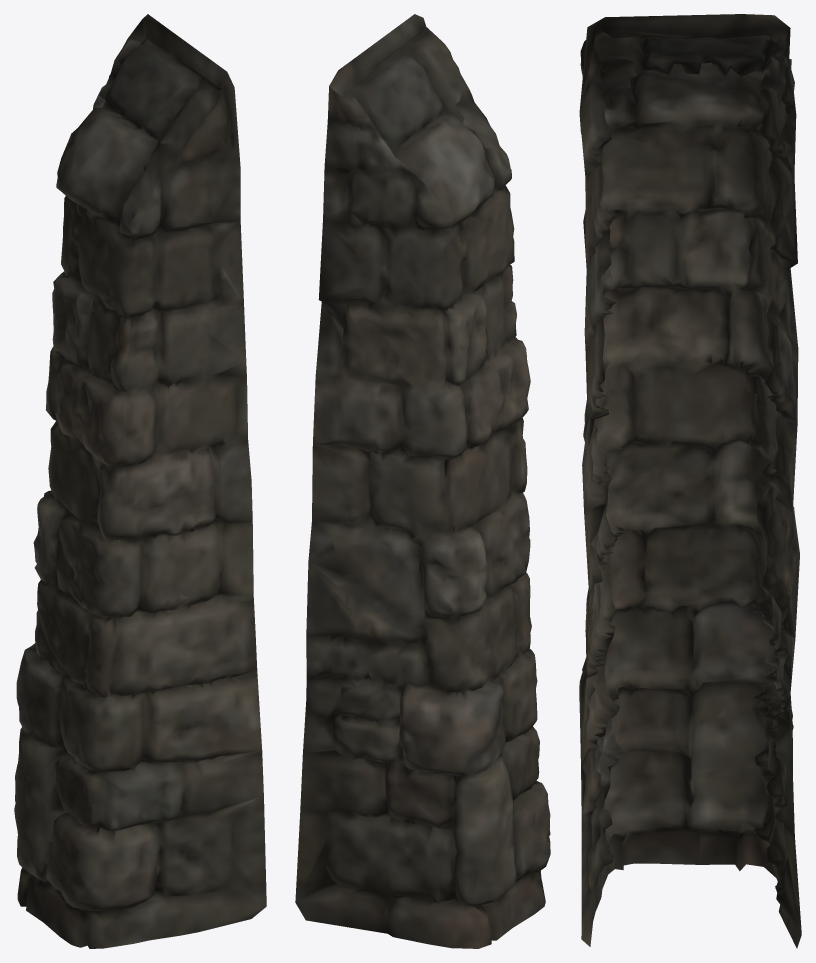
The model's file is C_Wall_Bracer.fbx.
3 renders of one model, left to right at view 1: azimuth 30°, elevation 25°; view 2: azimuth 150°, elevation 25°; view 3: azimuth 270°, elevation 25°, orthographic. The views are drawn at different scales.
Parts seen in each view (by area): view 1: C_Wall_Bracer; view 2: C_Wall_Bracer; view 3: C_Wall_Bracer.
Part boxes in pixels (x1=…): C_Wall_Bracer: x1=14, y1=14, x2=266, y2=948; C_Wall_Bracer: x1=295, y1=14, x2=550, y2=948; C_Wall_Bracer: x1=579, y1=14, x2=801, y2=948.
Size of what is drawn, in the model's own units: 177 by 816 by 178.
